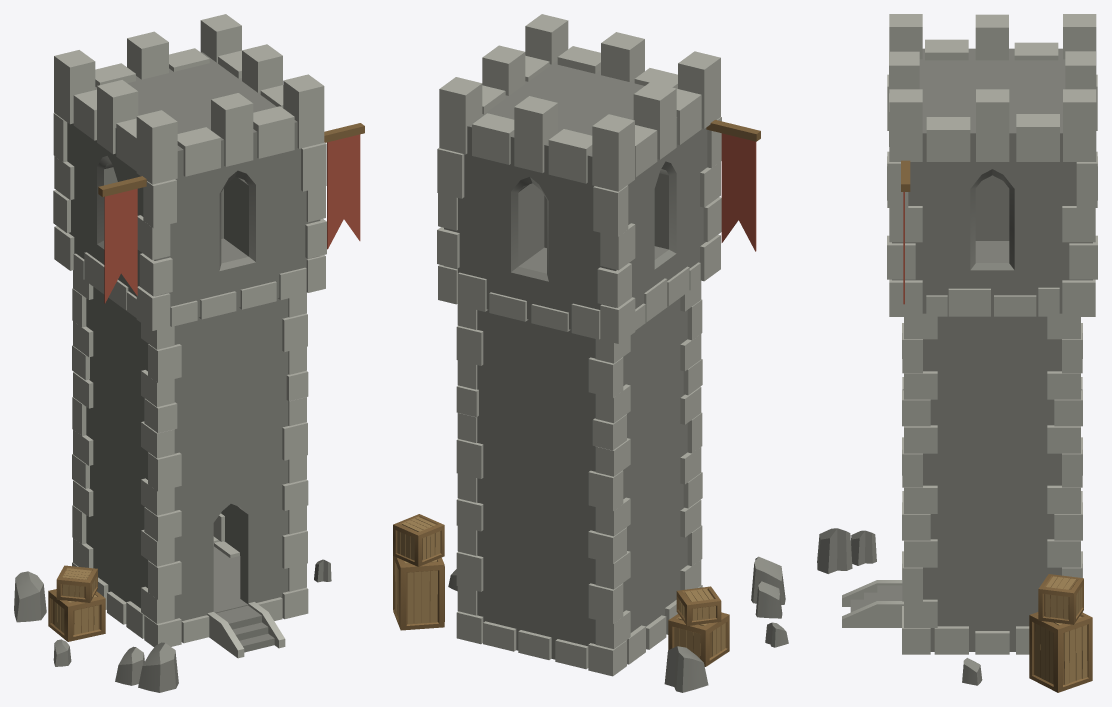
File: Stone Tower.glb
The picture shows the model from 3 angles, left to right: view 1: azimuth 30°, elevation 25°; view 2: azimuth 150°, elevation 25°; view 3: azimuth 270°, elevation 25°; orthographic projection. The views are drawn at different scales.
Parts seen in each view (by area): view 1: WatchTower_SecondAge_Level2; view 2: WatchTower_SecondAge_Level2; view 3: WatchTower_SecondAge_Level2.
Part boxes in pixels (<box>): WatchTower_SecondAge_Level2: <box>14,14,364,692</box>; WatchTower_SecondAge_Level2: <box>393,14,788,692</box>; WatchTower_SecondAge_Level2: <box>817,14,1097,692</box>.
Bounding box in the file's own units: 0.8384 × 1.36 × 0.6139.
